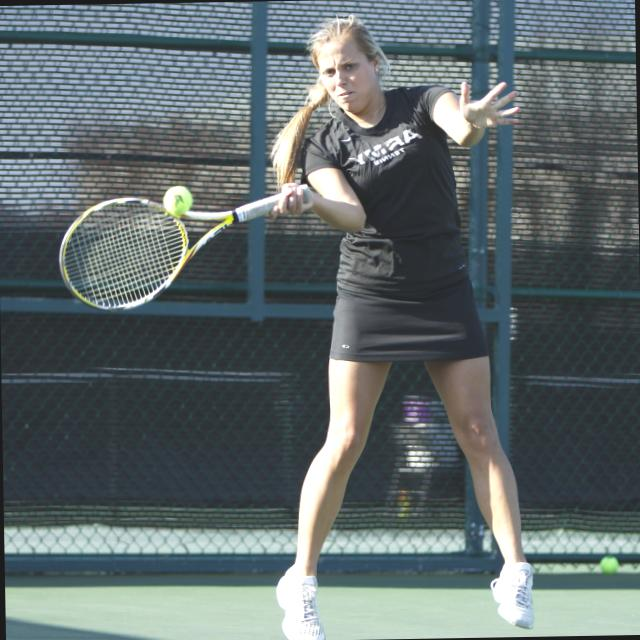Tennis Ball: (163, 184, 193, 216)
